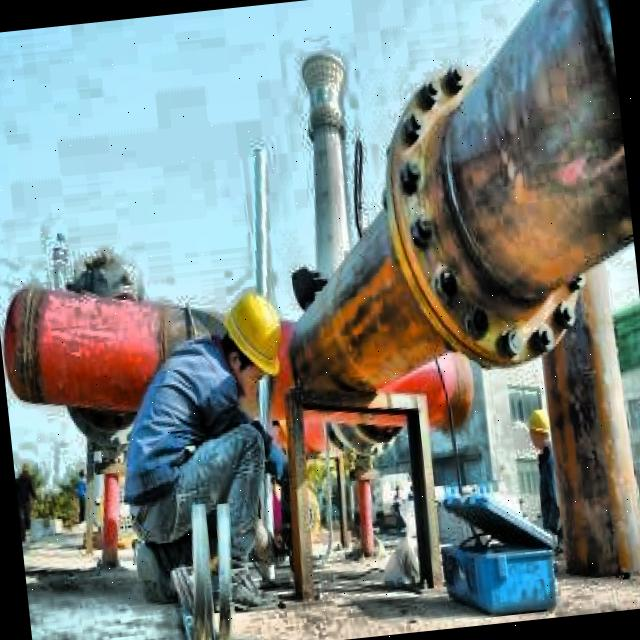helmet: (208, 276, 296, 400), (522, 396, 558, 457)
